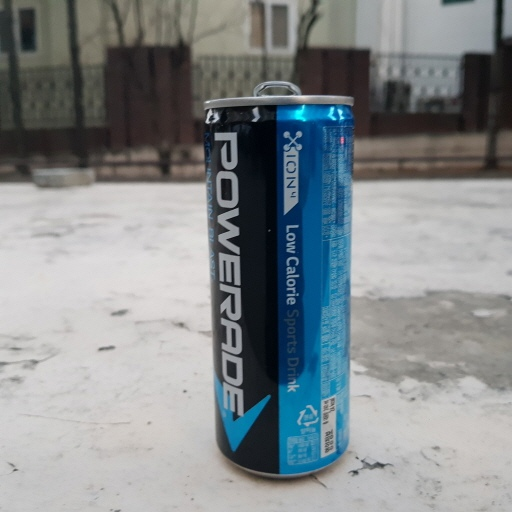Metal_0: (197, 81, 355, 479)
